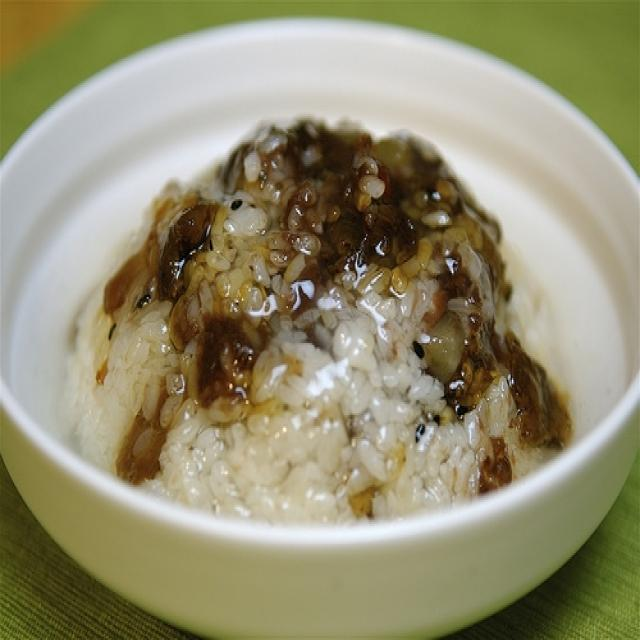米饭主食: (4, 15, 635, 605)
